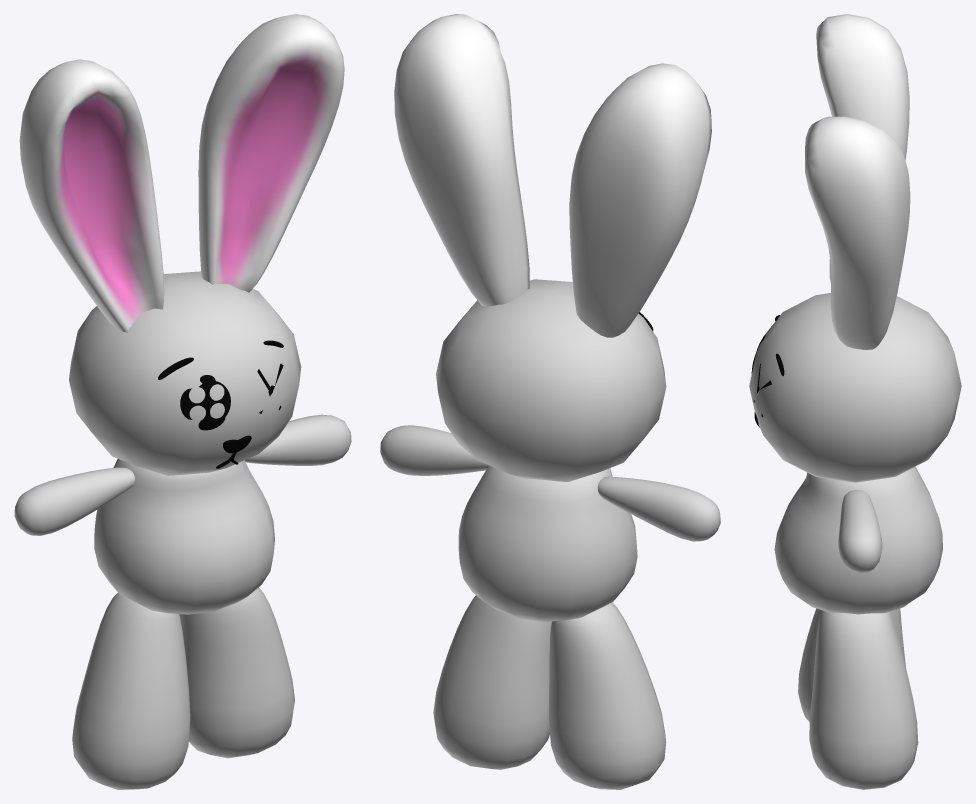
Rendered from asset.glb.
3 views of the same model, side by side, from view 1: azimuth 30°, elevation 25°; view 2: azimuth 150°, elevation 25°; view 3: azimuth 270°, elevation 25° (orthographic). The views are drawn at different scales.
Parts seen in each view (by area): view 1: Head, L.ear, R.ear, Body, R.arm, L.arm, R.Hand, L.hand, R.eye; view 2: Head, R.ear, L.ear, Body, R.arm, L.arm, R.Hand, L.hand; view 3: Head, L.ear, Body, L.arm, R.ear, L.hand, R.arm.
Part boxes in pixels (x1,y1,x2,y2): Head: [69, 271, 301, 475]; L.ear: [198, 14, 344, 292]; R.ear: [19, 59, 164, 332]; Body: [94, 459, 274, 614]; R.arm: [72, 593, 190, 789]; L.arm: [179, 587, 294, 758]; R.Hand: [14, 467, 134, 535]; L.hand: [245, 414, 351, 465]; R.eye: [180, 375, 230, 430]; Head: [436, 279, 666, 481]; R.ear: [569, 63, 711, 337]; L.ear: [394, 14, 529, 306]; Body: [458, 466, 637, 621]; R.arm: [548, 602, 666, 789]; L.arm: [433, 595, 551, 769]; R.Hand: [597, 476, 720, 541]; L.hand: [380, 425, 489, 475]; Head: [749, 293, 961, 482]; L.ear: [805, 116, 910, 349]; Body: [774, 466, 942, 614]; L.arm: [809, 610, 918, 789]; R.ear: [816, 14, 909, 282]; L.hand: [838, 490, 882, 573]; R.arm: [798, 608, 906, 721].
Bounding box in the file's own units: 0.4006 × 0.8367 × 0.2336.
Materials: 4 (1 with a texture image).
